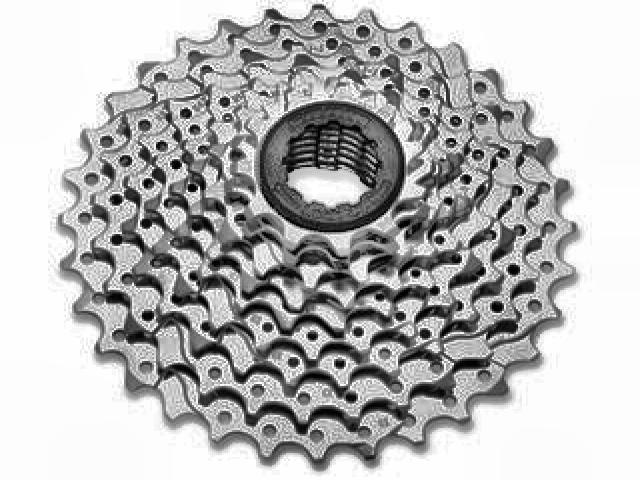cassette: (52, 5, 583, 470)
